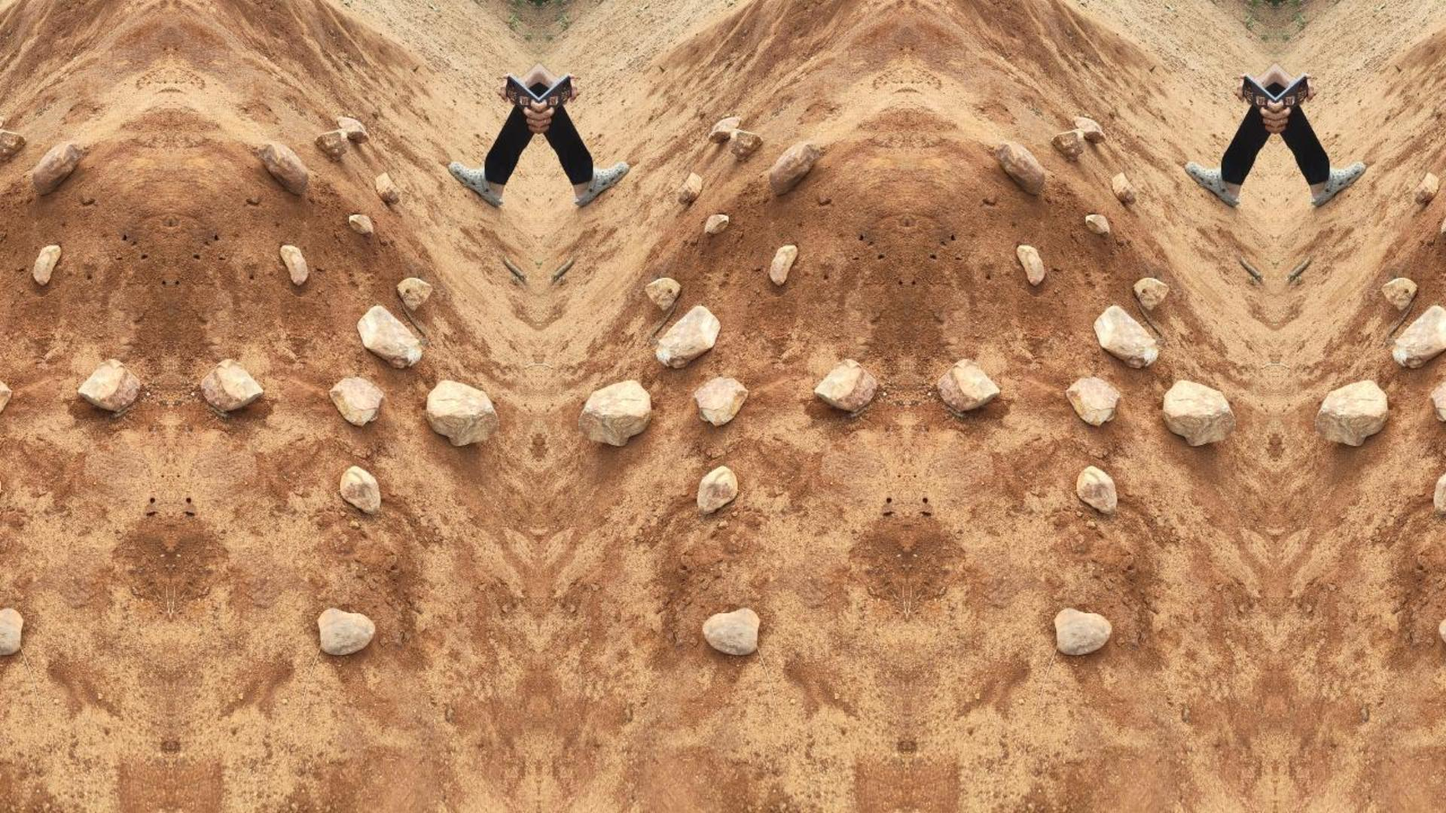rock: (578, 379, 651, 445), (1162, 381, 1234, 446), (426, 381, 498, 445), (1315, 381, 1387, 445), (655, 305, 720, 368), (1094, 305, 1158, 367), (357, 306, 421, 367), (938, 359, 1000, 416), (200, 358, 263, 413), (815, 359, 877, 414), (78, 359, 140, 414), (1392, 305, 1445, 367), (32, 140, 85, 194), (768, 141, 820, 195), (256, 141, 308, 195), (317, 607, 375, 655), (1065, 377, 1121, 426), (692, 377, 748, 425), (703, 607, 759, 655), (996, 141, 1045, 194), (1054, 609, 1110, 655), (330, 377, 383, 425), (1075, 466, 1116, 514), (697, 466, 737, 513), (340, 466, 380, 513), (279, 244, 308, 286), (768, 245, 798, 285), (645, 278, 680, 312), (1016, 245, 1045, 286), (1133, 278, 1169, 311), (33, 244, 61, 286), (397, 278, 432, 311), (0, 607, 23, 656), (1382, 278, 1415, 311), (315, 129, 349, 160), (1052, 128, 1084, 160), (729, 130, 761, 160), (374, 172, 400, 206), (708, 115, 740, 142), (336, 116, 367, 143), (0, 128, 25, 161), (1414, 173, 1439, 206), (1074, 116, 1104, 142), (678, 173, 703, 204), (1112, 173, 1135, 206), (1430, 381, 1445, 421), (1084, 213, 1109, 236), (347, 213, 373, 235), (704, 213, 729, 235), (1432, 473, 1445, 515), (0, 381, 11, 413), (1437, 617, 1445, 652), (0, 117, 9, 143), (1439, 217, 1445, 236), (1441, 125, 1445, 141)
